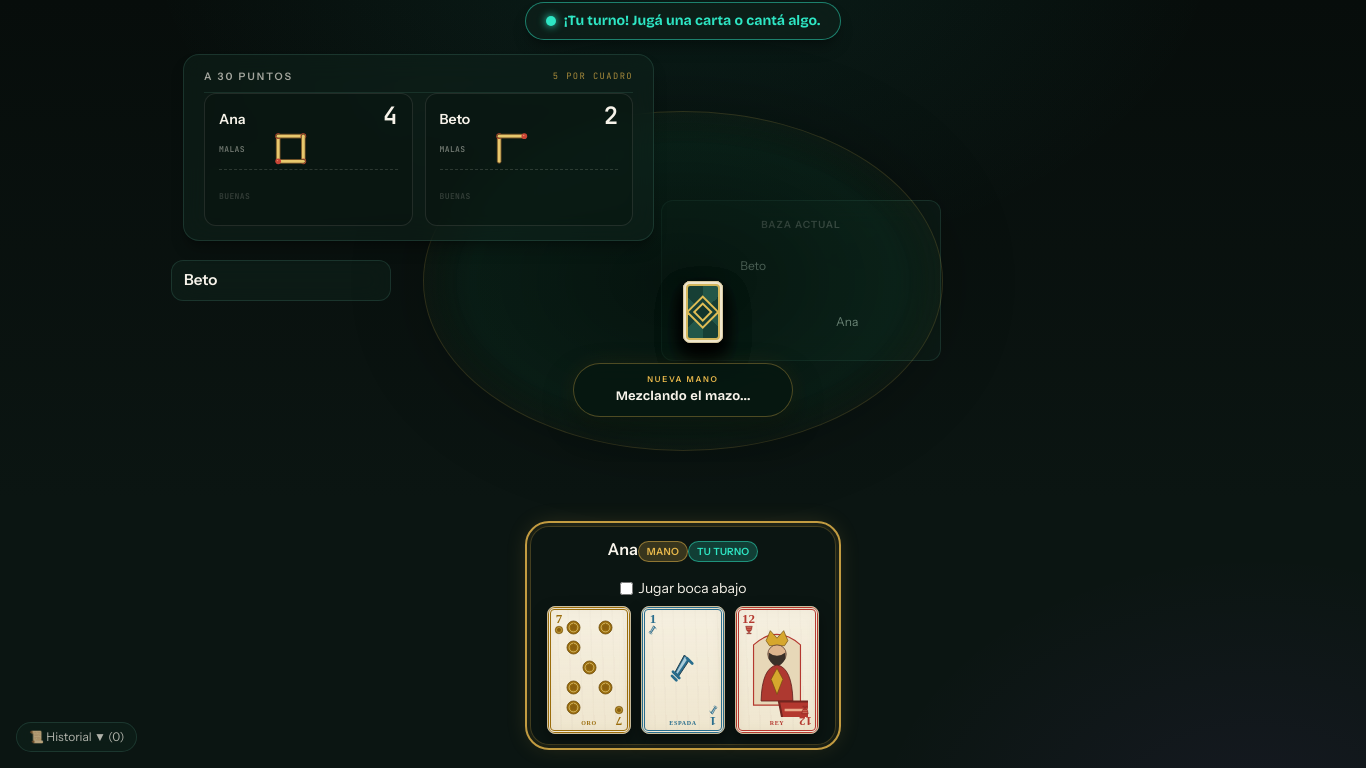
Test: jugada rechazada por el backend (422) muestra un toast de error
What coordinates should you click on to do the following:
click the button with test id "carta-oro-7"
I would click on:
 (589, 670)
Its box is [547,606,631,734].
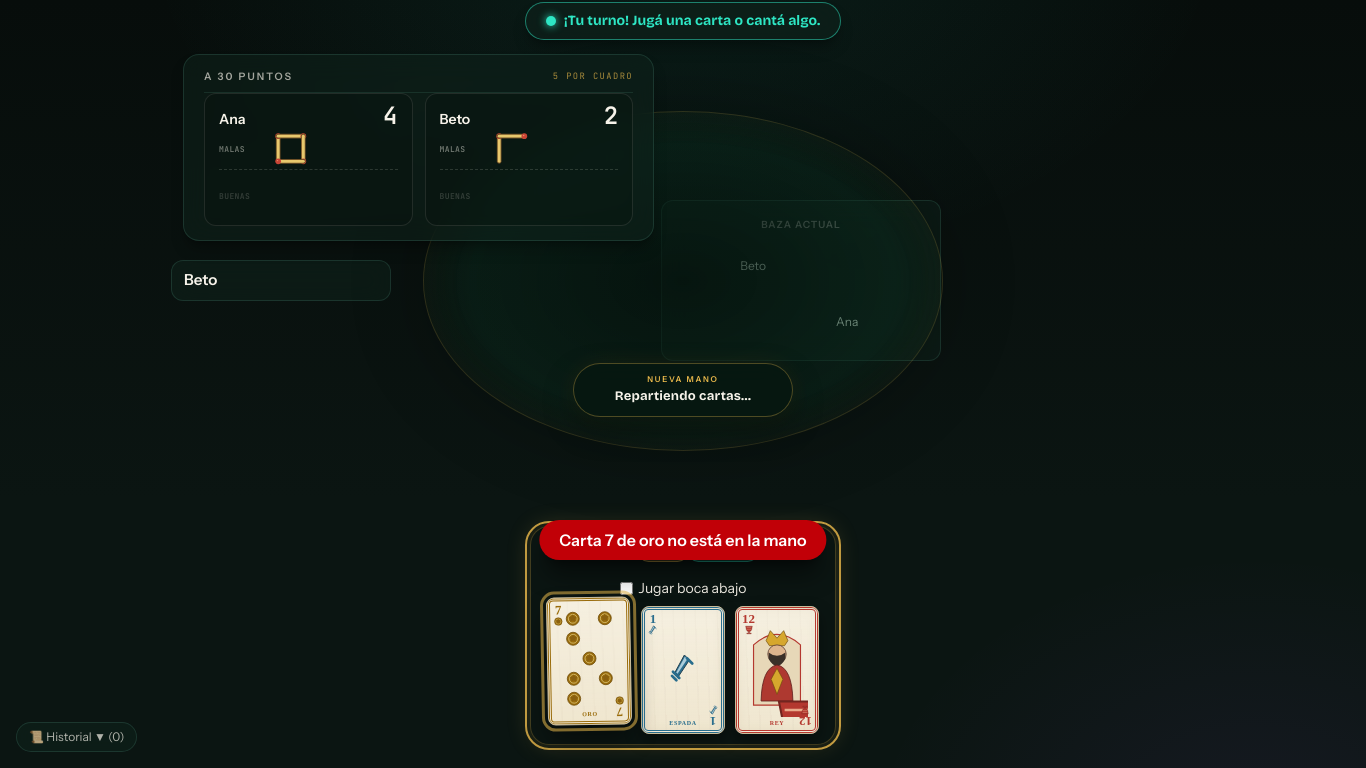
Result: the text with test id "toast-error" reads "Carta 7 de oro no está en la mano" at [559,530,807,550]
